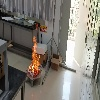fire: (29, 36, 40, 76), (36, 23, 38, 30)
